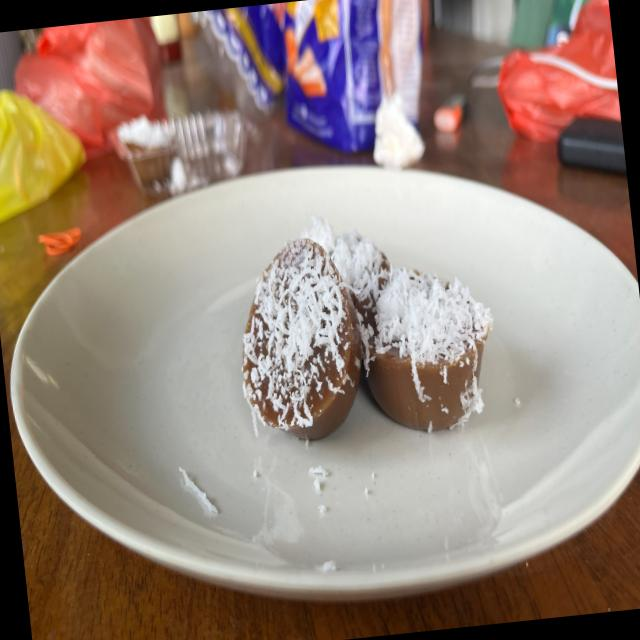Kuih lompang: (242, 237, 361, 440), (365, 267, 493, 431), (302, 214, 390, 371)
